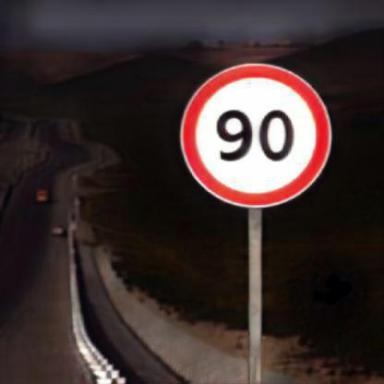Speed_limit_90: (183, 64, 330, 205)
